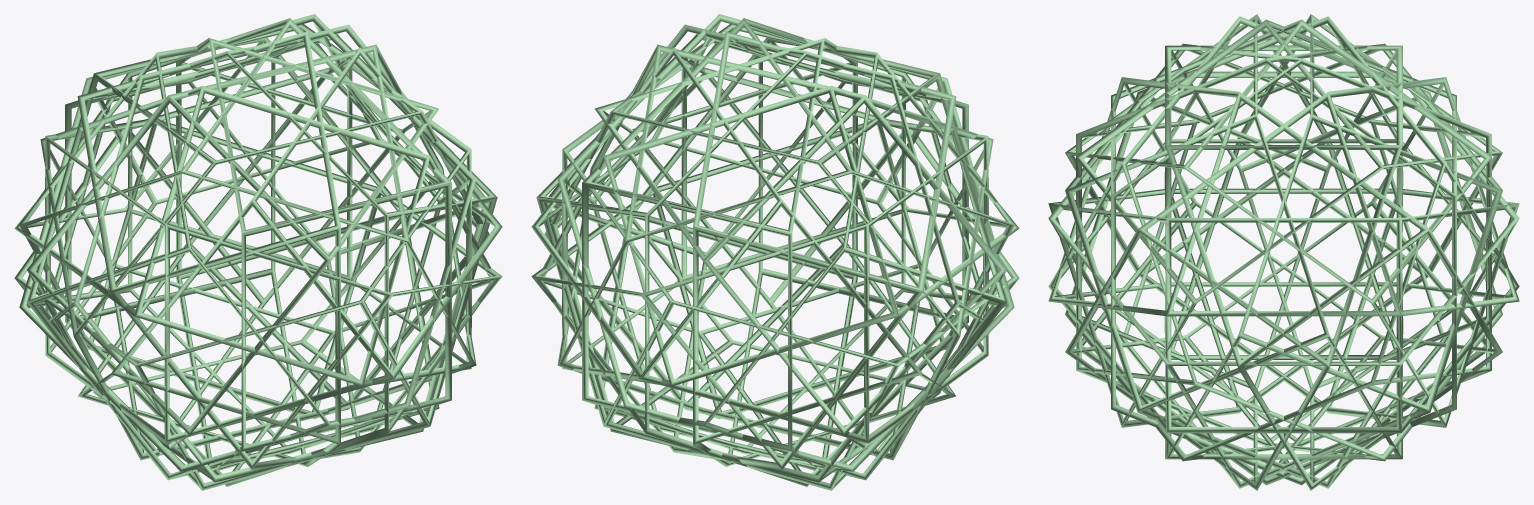
The model's file is GreatTruncatedIcosidodecahedron1.glb.
The picture shows the model from 3 angles, left to right: view 1: azimuth 30°, elevation 25°; view 2: azimuth 150°, elevation 25°; view 3: azimuth 270°, elevation 25°; orthographic projection. The views are drawn at different scales.
Visible parts, largest first — view 1: GreatTruncatedIcosidodecahedron; view 2: GreatTruncatedIcosidodecahedron; view 3: GreatTruncatedIcosidodecahedron.
Part boxes in pixels (x1,y1,x2,y2): GreatTruncatedIcosidodecahedron: [14, 14, 502, 490]; GreatTruncatedIcosidodecahedron: [531, 14, 1019, 490]; GreatTruncatedIcosidodecahedron: [1048, 14, 1519, 490].
Bounding box in the file's own units: 2.03 × 2.03 × 2.03.
